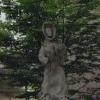Statue: (26, 15, 100, 100)
